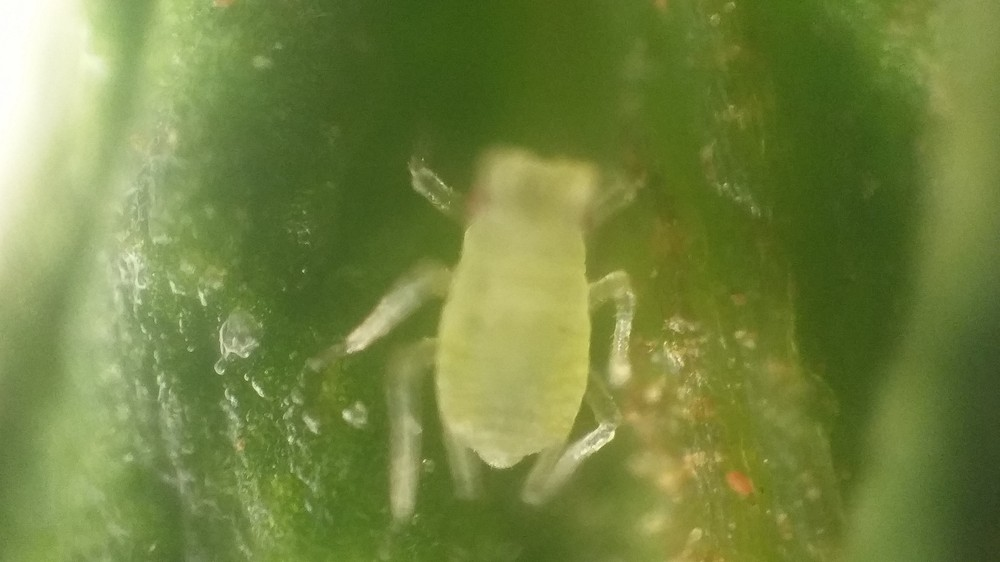Pulgon: (321, 102, 725, 540)
